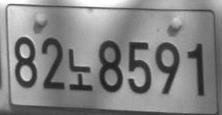1: (185, 42, 212, 96)
2: (40, 37, 65, 90)
5: (127, 41, 152, 94)
8: (97, 39, 123, 92), (13, 35, 38, 89)
9: (154, 41, 180, 94)
노: (68, 48, 92, 91)
